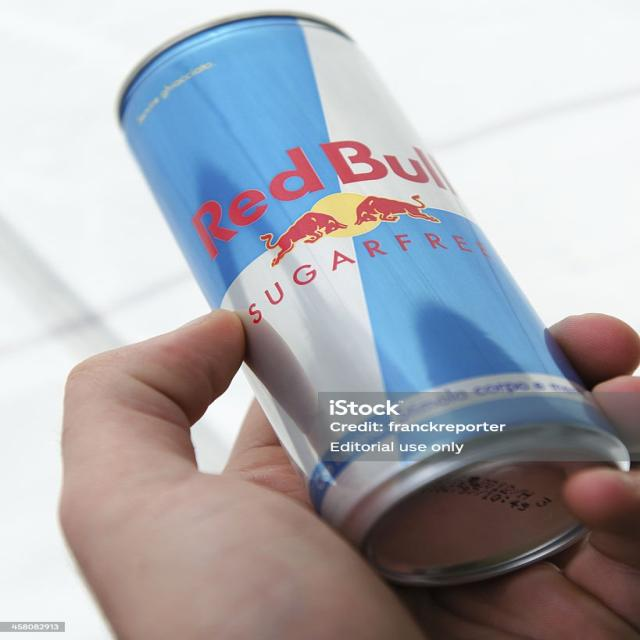can: (114, 8, 633, 591)
